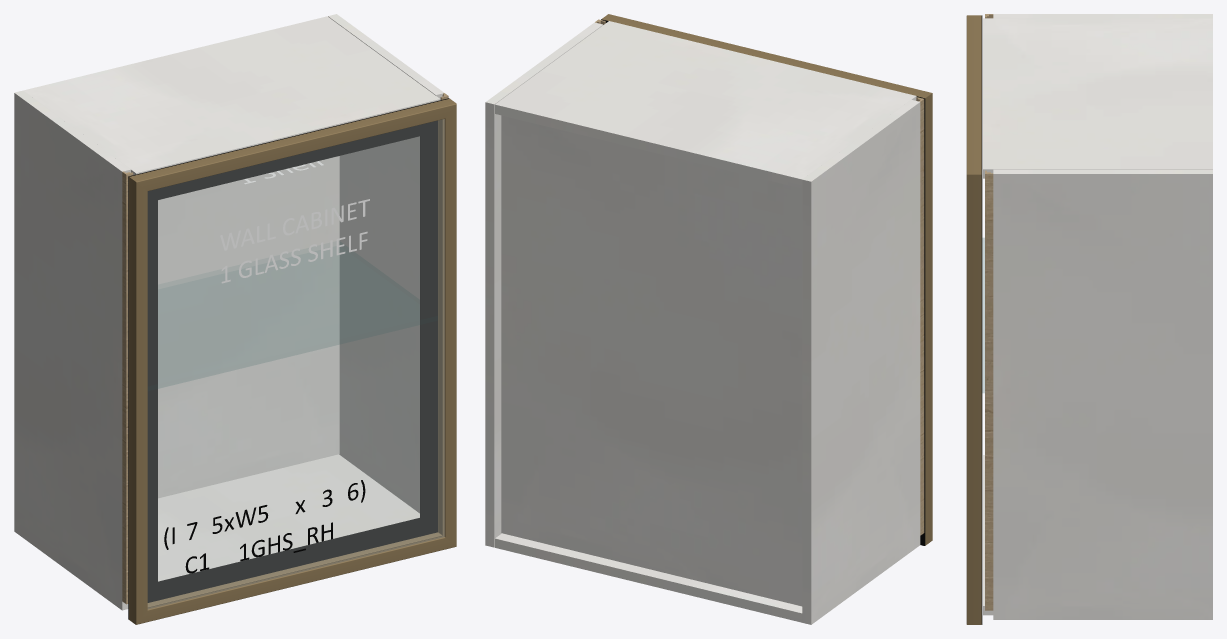
The model's file is WC-SH-NHX-GL-1SG-RHS-XXX-550-725-336-15.glb.
3 views of the same model, side by side, from view 1: azimuth 30°, elevation 25°; view 2: azimuth 150°, elevation 25°; view 3: azimuth 270°, elevation 25° (orthographic).
Visible parts, largest first — view 1: Object_node_4, TP_node_2, TP_node_0, TP, Neon 22 Profile ALU PROF NEON 20 L21XH22.5MM 3MTR S2/405 SEC (×4), TP_node_1, Object_node_6, TP_node, Object_node_8, 2D text_node, 2D text_node_0, 2D text; view 2: TP_node_2, TP_node_0, TP, TP_node_1, Neon 22 Profile ALU PROF NEON 20 L21XH22.5MM 3MTR S2/405 SEC (×2), TP_node, Object_node_8, Object_node_6; view 3: TP_node_1, TP, Neon 22 Profile ALU PROF NEON 20 L21XH22.5MM 3MTR S2/405 SEC (×2), Object_node_16, Object_node_6, TP_node_0, TP_node.
Part boxes in pixels (bbox=[...]): Object_node_4: bbox=[148, 119, 444, 608]; TP_node_2: bbox=[158, 156, 339, 498]; TP_node_0: bbox=[14, 90, 130, 610]; TP: bbox=[23, 16, 440, 174]; Neon 22 Profile ALU PROF NEON 20 L21XH22.5MM 3MTR S2/405 SEC (×4): bbox=[129, 98, 456, 624]; TP_node_1: bbox=[328, 14, 443, 513]; Object_node_6: bbox=[128, 98, 449, 619]; TP_node: bbox=[158, 454, 419, 581]; Object_node_8: bbox=[122, 171, 133, 604]; 2D text_node: bbox=[220, 199, 369, 283]; 2D text_node_0: bbox=[164, 480, 365, 549]; 2D text: bbox=[185, 522, 332, 573]; TP_node_2: bbox=[501, 115, 802, 606]; TP_node_0: bbox=[802, 99, 920, 624]; TP: bbox=[495, 21, 916, 188]; TP_node_1: bbox=[485, 22, 602, 547]; Neon 22 Profile ALU PROF NEON 20 L21XH22.5MM 3MTR S2/405 SEC (×2): bbox=[602, 14, 932, 545]; TP_node: bbox=[495, 533, 802, 622]; Object_node_8: bbox=[916, 97, 924, 535]; Object_node_6: bbox=[601, 19, 925, 545]; TP_node_1: bbox=[993, 169, 1212, 619]; TP: bbox=[983, 18, 1212, 178]; Neon 22 Profile ALU PROF NEON 20 L21XH22.5MM 3MTR S2/405 SEC (×2): bbox=[966, 15, 981, 624]; Object_node_16: bbox=[985, 170, 993, 610]; Object_node_6: bbox=[981, 15, 982, 624]; TP_node_0: bbox=[993, 14, 1212, 18]; TP_node: bbox=[983, 455, 993, 615].
Size of what is drawn, in the model's own units: 0.55 by 0.7235 by 0.366.
8 materials, 2 textured.
